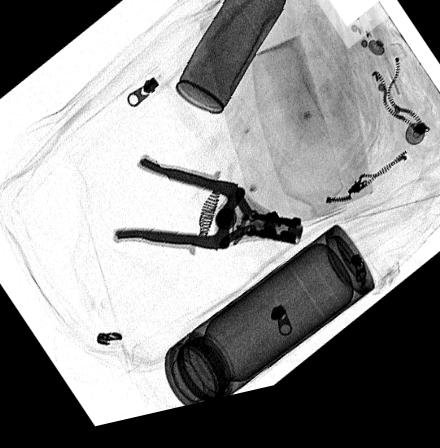Pliers: (116, 158, 306, 261)
